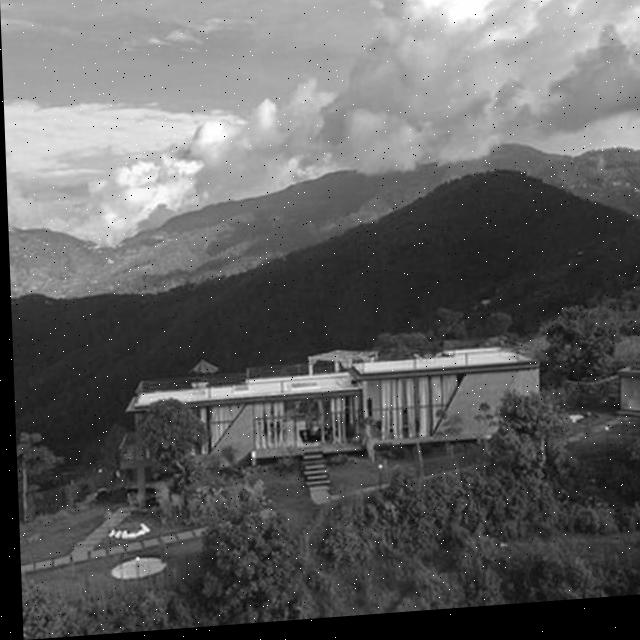building: (120, 329, 542, 482)
